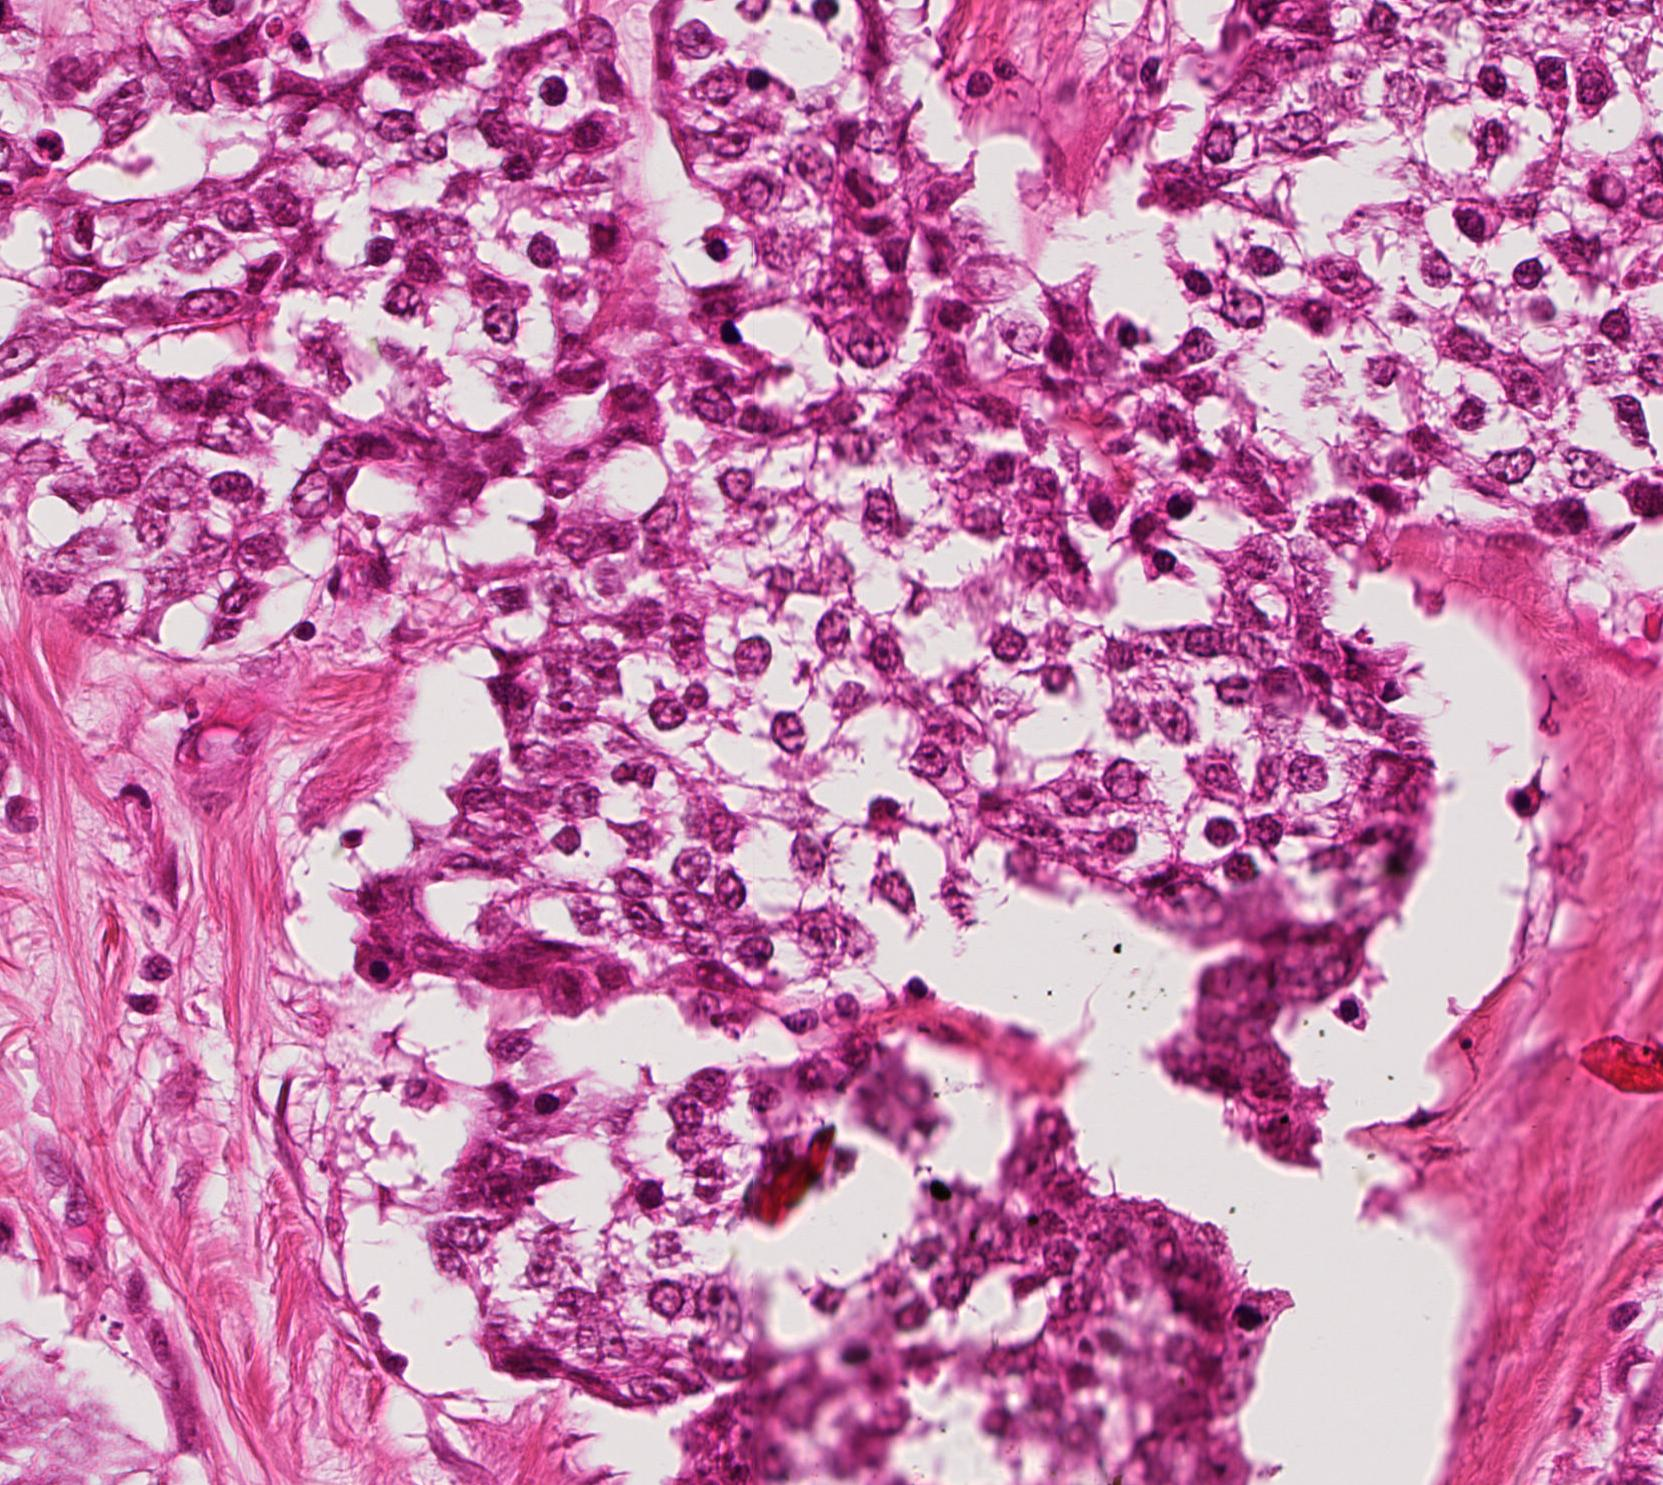mitosis: (0, 380, 49, 440)
